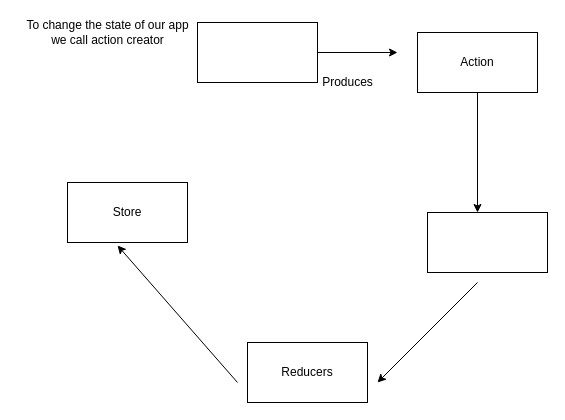
Some shapes in this 565 by 420 pixel diagram are drawn without their labels. The shapes that lost their labels are listed below. From the top down, each one's centre as x and y in pixels, then its label:
point (257, 52): Action Creator
point (487, 242): Dispatch
